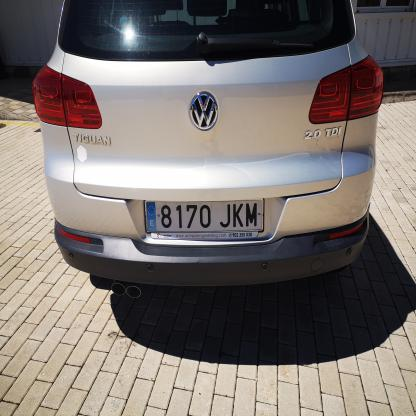patente: (146, 197, 266, 234)
